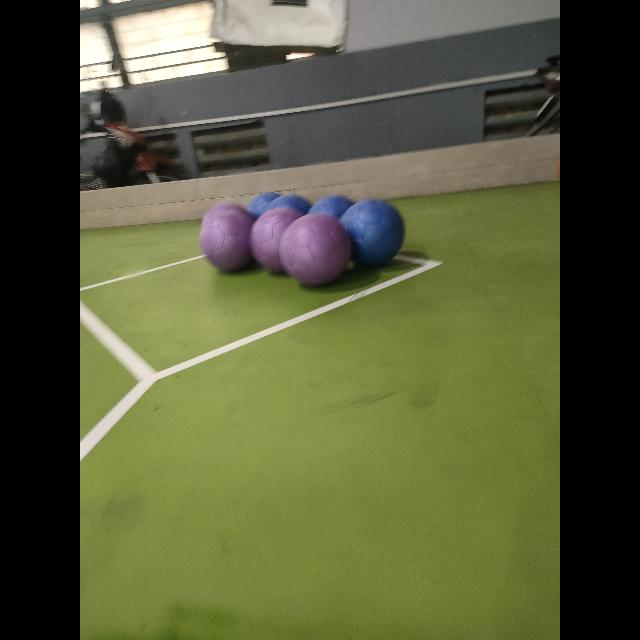B: (340, 200, 404, 264), (310, 198, 362, 250), (246, 192, 282, 218)
P: (279, 213, 351, 284), (250, 206, 306, 274), (200, 208, 254, 270)
